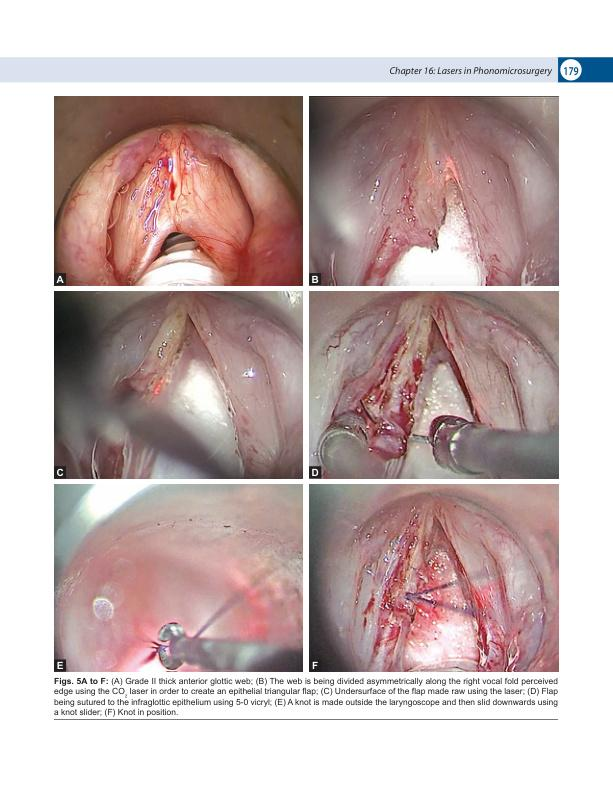caption: (52, 676, 559, 718), (55, 660, 65, 671), (310, 274, 320, 284), (310, 467, 320, 477), (56, 467, 65, 478), (55, 275, 65, 284), (310, 660, 319, 670)
header: (389, 65, 553, 77)
image: (309, 95, 559, 286), (53, 96, 303, 286), (309, 290, 559, 479), (309, 483, 559, 672), (54, 483, 303, 672), (54, 291, 303, 479)
